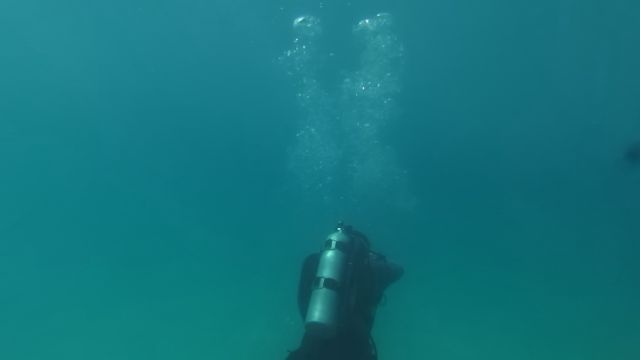Diver: (269, 217, 415, 359)
